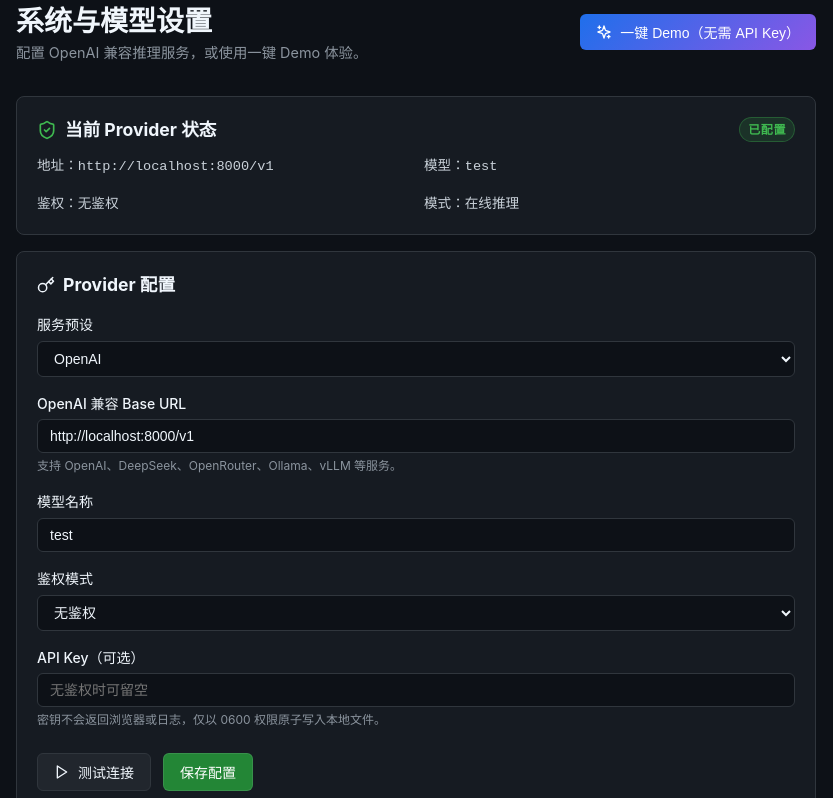
Test: SetupPage generation warnings › preserves failure status while showing advisory warnings from the error response
This screenshot has width=833, height=798.
Click the button "测试连接": (94, 772) 37,753 -> 151,791
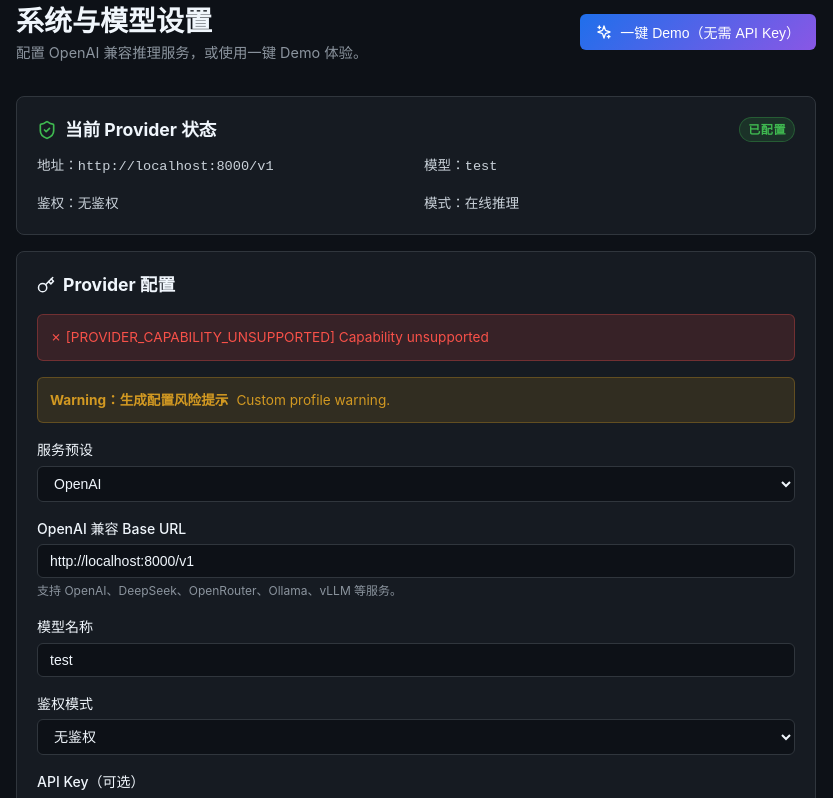
Check: the text with class "alert-danger" shows "PROVIDER_CAPABILITY_UNSUPPORTED", box 50,329 -> 489,345
Check: the message named "Generation configuration warnings" shows "Custom profile warning.", box 236,392 -> 390,408
